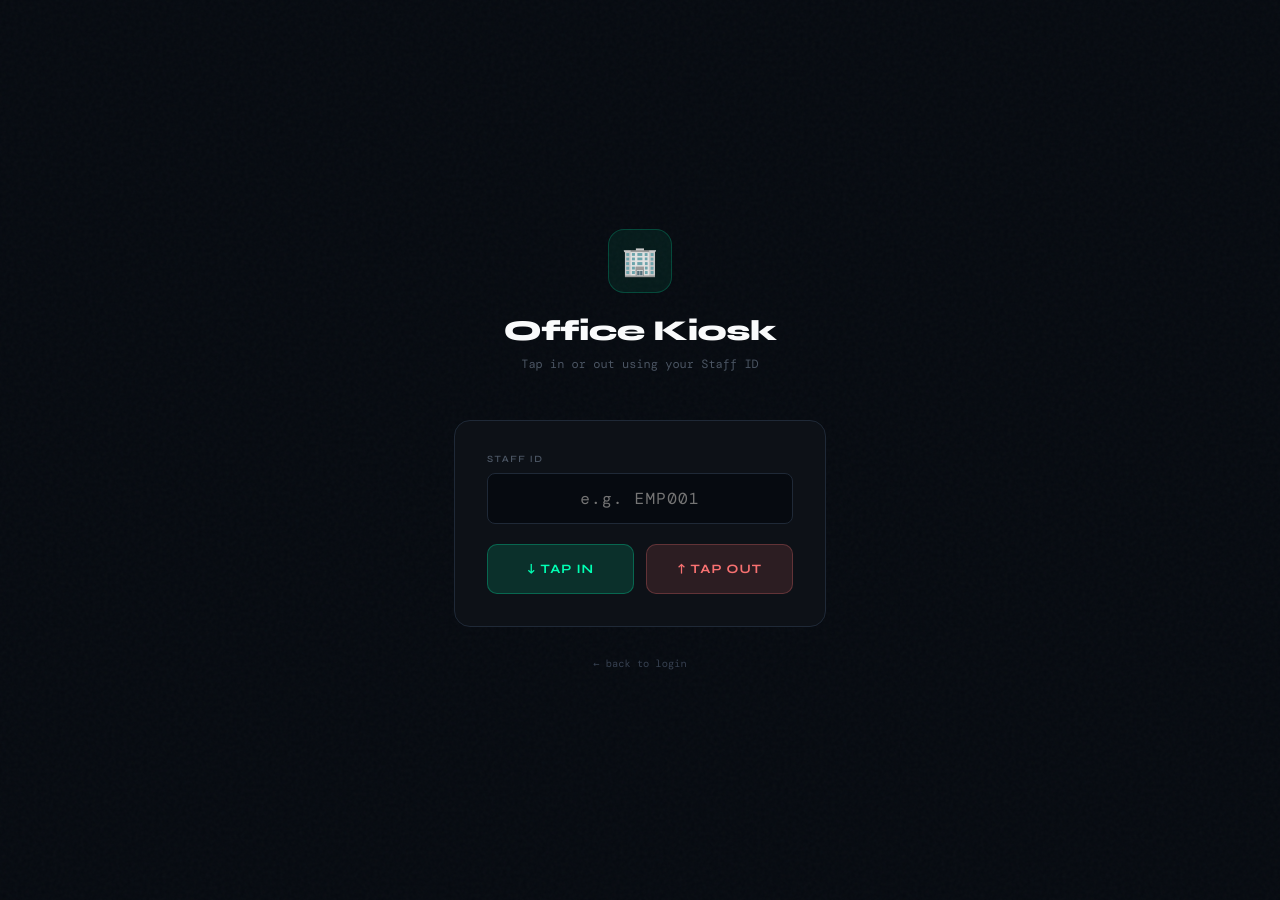
Test case: TapScreen › shows validation when the staff ID is missing
Click the button "↓ Tap In" at (560,568), box [487,544,634,594]
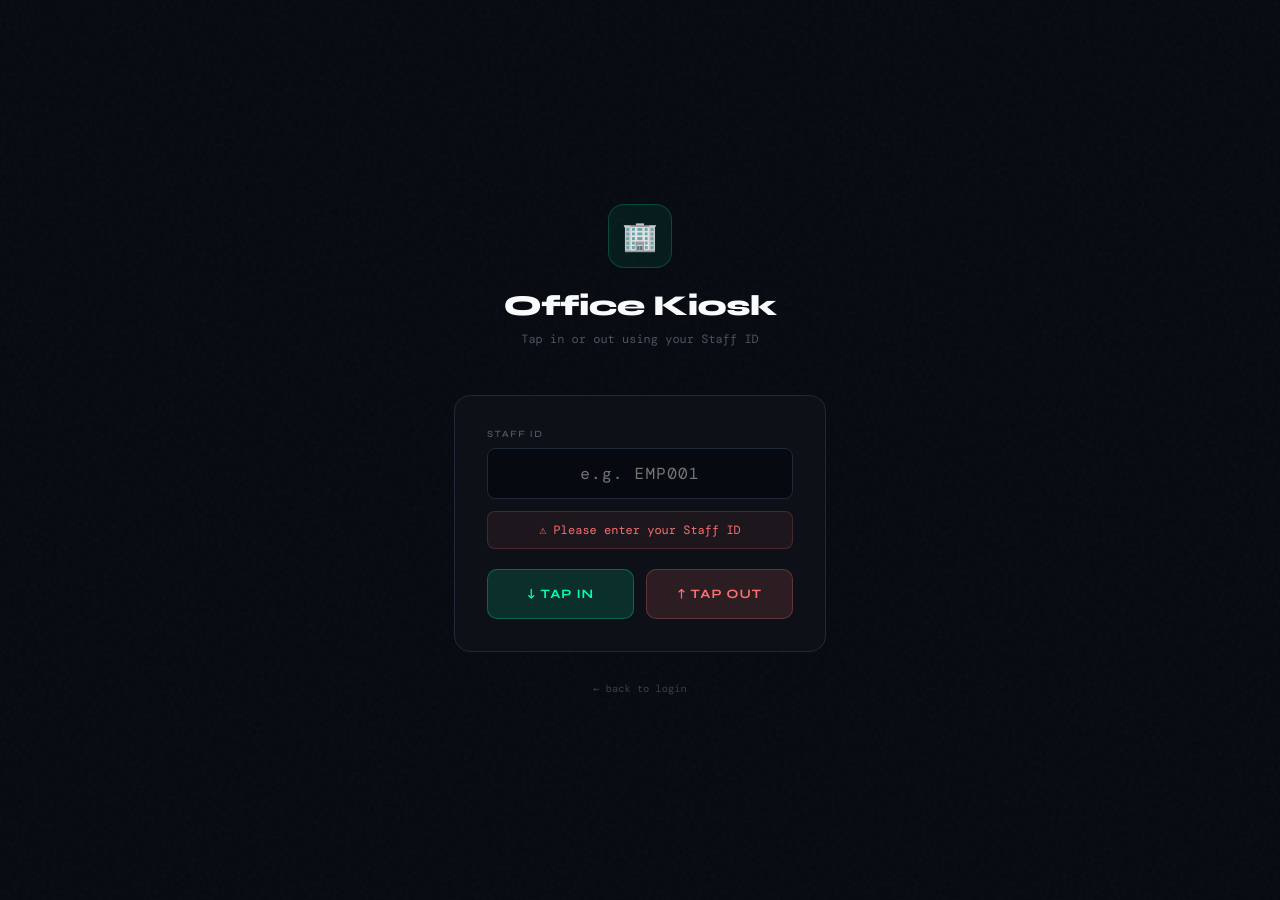
expect the text "⚠ Please enter your Staff ID" is shown: met, box [487,510,793,548]
